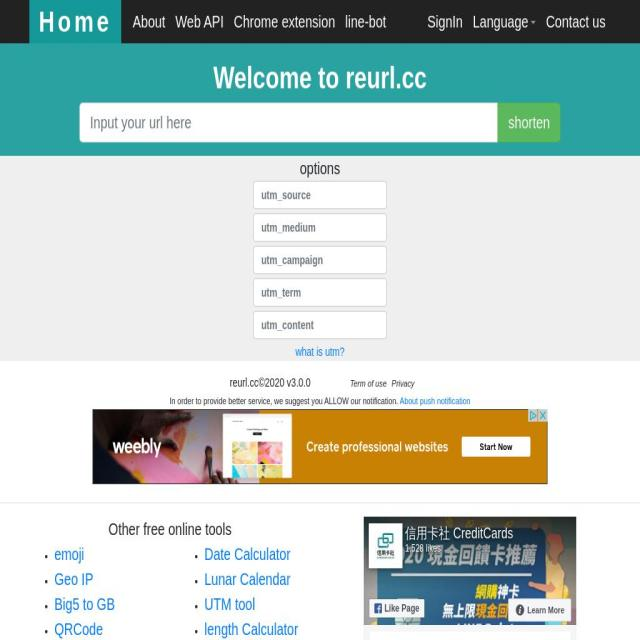button: (228, 2, 341, 41), (29, 0, 121, 43), (468, 2, 542, 41), (540, 2, 610, 41), (498, 102, 560, 142), (170, 2, 229, 41), (340, 2, 391, 41), (422, 2, 468, 41), (128, 2, 170, 41), (350, 374, 387, 392), (391, 374, 415, 392)
field: (79, 102, 499, 142), (252, 213, 387, 242), (252, 278, 387, 307), (252, 181, 387, 209), (252, 246, 387, 274), (252, 311, 387, 339)
heading: (0, 60, 640, 96)
iframe: (92, 409, 548, 484), (363, 516, 576, 640)
label: (38, 0, 112, 43)
text: (169, 396, 400, 406), (108, 520, 231, 538), (233, 12, 335, 31), (204, 620, 298, 638), (204, 545, 290, 563), (204, 570, 290, 588), (546, 12, 606, 31), (54, 595, 115, 613), (472, 12, 528, 31), (230, 376, 310, 389), (175, 12, 224, 31), (204, 595, 255, 613), (54, 620, 104, 638), (345, 12, 387, 31), (299, 159, 340, 178), (399, 396, 472, 406), (54, 570, 94, 588), (427, 12, 462, 31), (132, 12, 166, 31), (295, 345, 344, 358), (54, 545, 84, 563), (350, 378, 387, 388), (391, 378, 415, 388)
